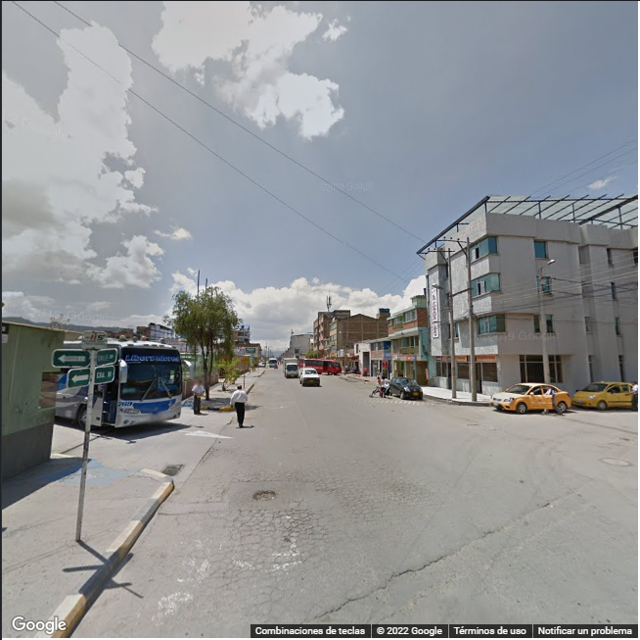D20: (217, 507, 325, 593), (322, 469, 433, 515)
D40: (246, 484, 281, 505)
